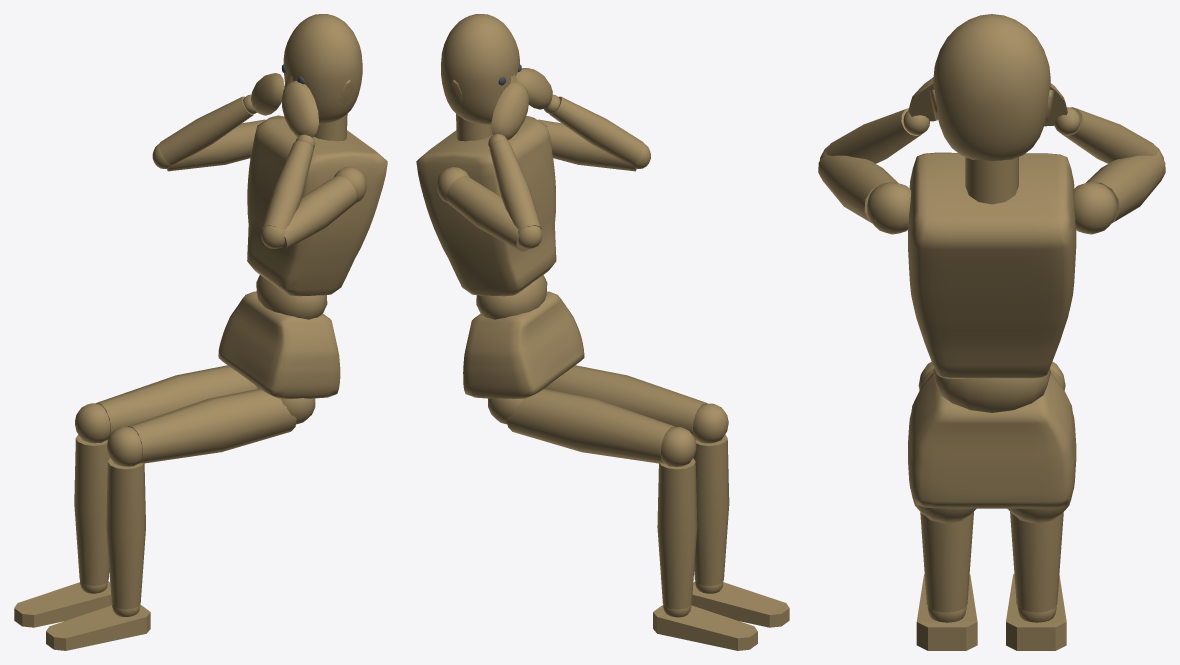
File: not_belong.fbx
The picture shows the model from 3 angles, left to right: view 1: azimuth 30°, elevation 25°; view 2: azimuth 150°, elevation 25°; view 3: azimuth 270°, elevation 25°; orthographic projection. The views are drawn at different scales.
Visible parts, largest first — view 1: not_belong_puppet; view 2: not_belong_puppet; view 3: not_belong_puppet.
Part boxes in pixels (<box>): not_belong_puppet: <box>14,14,387,650</box>; not_belong_puppet: <box>416,14,789,650</box>; not_belong_puppet: <box>818,14,1165,650</box>.
Bounding box in the file's own units: 5.51 × 8.73 × 3.58.
